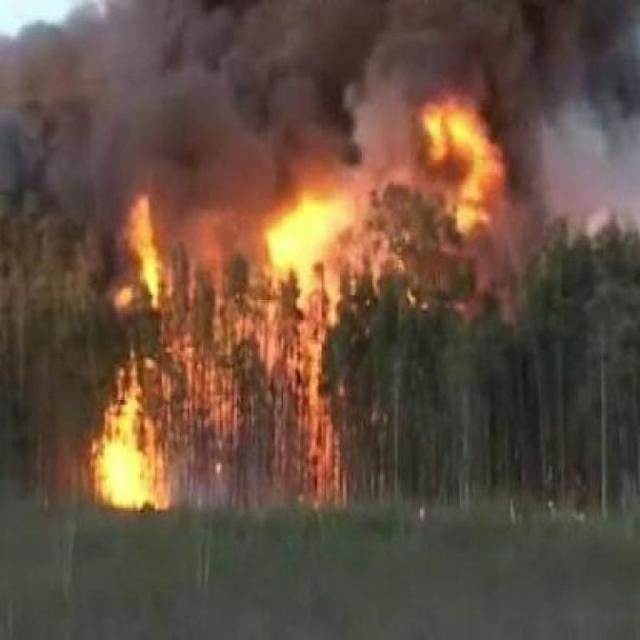Fire: (56, 161, 510, 514)
Smoke: (0, 0, 614, 242)
